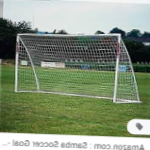goals: (12, 28, 144, 105)
